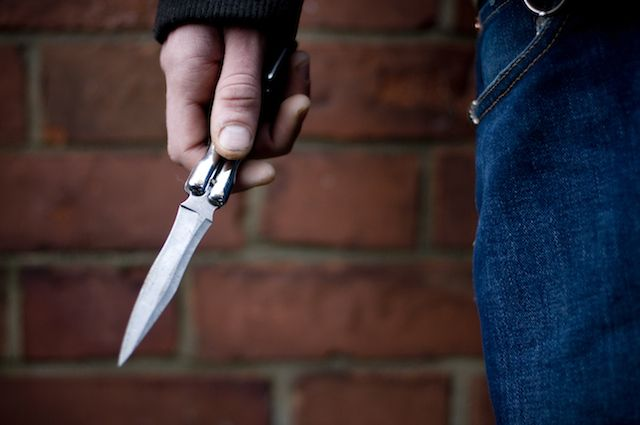knife: (109, 110, 276, 382)
